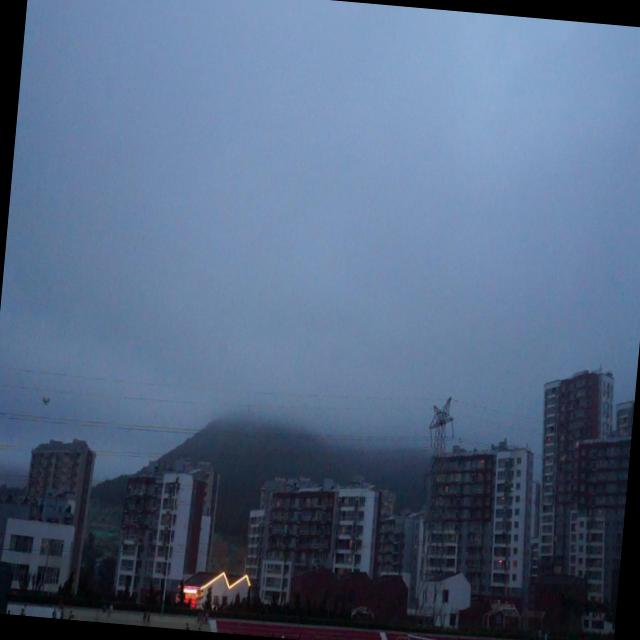drone: (39, 391, 53, 410)
